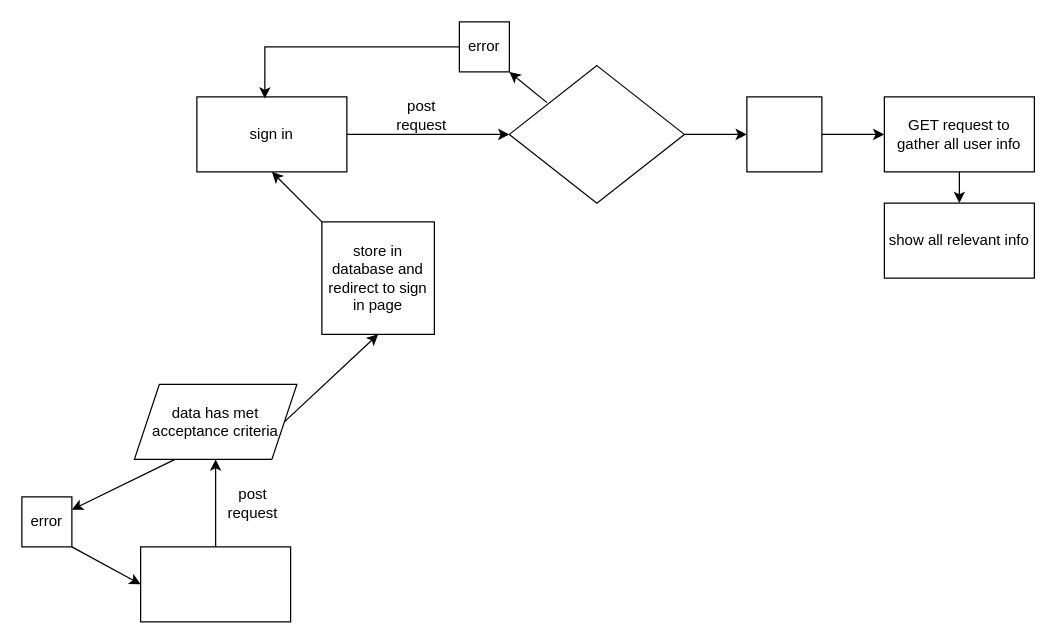
Some shapes in this 1056 by 644 pixel diagram are drawn without their labels. The shapes that lost their labels are listed below. From the top down, each one's centre as x and y in pixels, then its label:
At (596,133): "user exists/ password field is not none etc.".
At (784,134): "redirect to home page".
At (215,584): "sign up".
